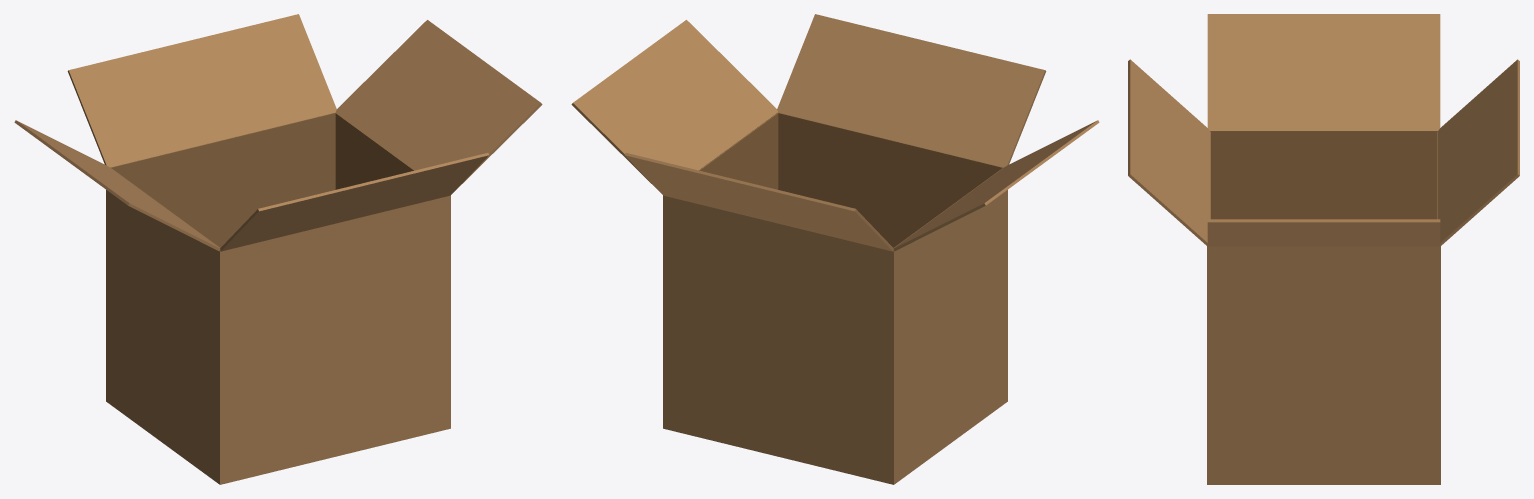
File: cardboard_box.glb
3 renders of one model, left to right at view 1: azimuth 30°, elevation 25°; view 2: azimuth 150°, elevation 25°; view 3: azimuth 270°, elevation 25°, orthographic. The views are drawn at different scales.
Visible parts, largest first — view 1: Corrugated box shell; view 2: Corrugated box shell; view 3: Corrugated box shell.
Part boxes in pixels (x1=…): Corrugated box shell: x1=14, y1=14, x2=542, y2=484; Corrugated box shell: x1=571, y1=14, x2=1099, y2=484; Corrugated box shell: x1=1128, y1=14, x2=1519, y2=484.
Bounding box in the file's own units: 0.5 × 0.35 × 0.4.
